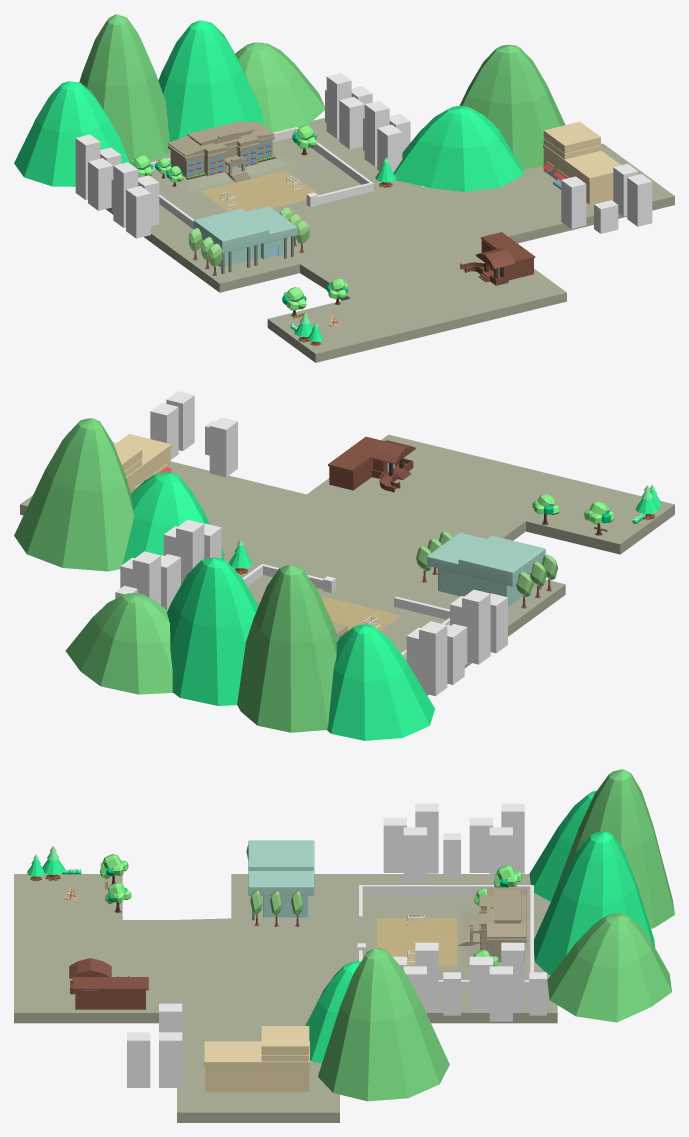
The model's file is town_protonew.glb.
The picture shows the model from 3 angles, top to bottom: view 1: azimuth 30°, elevation 25°; view 2: azimuth 150°, elevation 25°; view 3: azimuth 270°, elevation 25°; orthographic projection. The views are drawn at different scales.
Parts seen in each view (by area): view 1: pPlane1, pCone7, pCone6, pCone9, pCone10, pCone5, pCone8, schoolbuilding, townbuilding2pCube1, townbuilding2polySurface3001, pCube65, pCube28 (+15 smaller); view 2: pPlane1, pCone6, pCone10, pCone7, pCone5, pCone8, townbuilding2polySurface3001, pCone9, townbuilding2pCube1, pCube16, pCube12, pCube28 (+15 smaller); view 3: pPlane1, pCone10, pCone8, pCone7, pCone6, townbuilding2pCube1, townbuilding2polySurface3001, schoolbuilding, pCone5, pCone9, pCube65, townbuilding2polySurface2 (+20 smaller).
Part boxes in pixels (x1,y1,x2,y2): pPlane1: (106,118,674,362); pCone7: (158,20,263,141); pCone6: (79,14,170,162); pCone9: (393,105,523,191); pCone10: (459,44,565,168); pCone5: (14,81,129,186); pCone8: (235,42,324,132); schoolbuilding: (168,120,274,177); townbuilding2pCube1: (543,121,620,204); townbuilding2polySurface3001: (193,206,297,267); pCube65: (150,127,373,229); pCube28: (561,176,586,228); pPlane1: (20,434,674,695); pCone6: (237,565,338,732); pCone10: (14,418,134,571); pCone7: (167,557,258,705); pCone5: (327,624,434,740); pCone8: (65,593,172,694); townbuilding2polySurface3001: (427,532,545,606); pCone9: (122,472,223,564); townbuilding2pCube1: (113,434,171,493); pCube16: (419,621,447,696); pCube12: (462,589,490,664); pCube28: (209,417,237,477); pPlane1: (14,874,557,1122); pCone10: (318,948,449,1101); pCone8: (547,913,671,1022); pCone7: (534,831,655,975); pCone6: (552,769,674,928); townbuilding2pCube1: (204,1026,309,1092); townbuilding2polySurface3001: (248,840,314,917); schoolbuilding: (470,887,526,962); pCone5: (529,790,596,901); pCone9: (305,961,360,1063); pCube65: (359,885,533,990); townbuilding2polySurface2: (75,990,145,1009).
Size of the model in its own units: 150 by 41.29 by 161.
